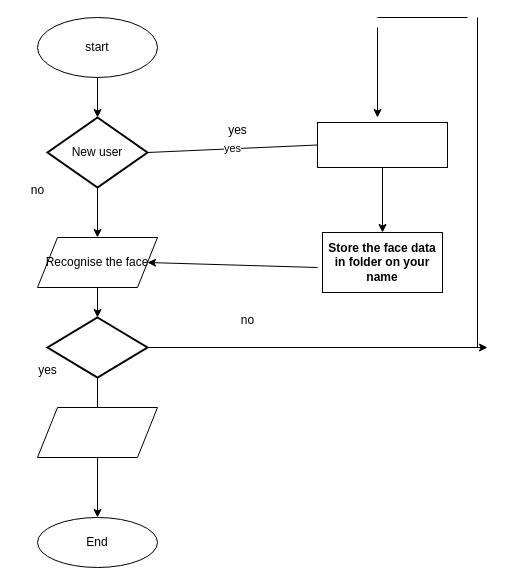
Image size: 513x585. Some labels were removed from this diagram. Here are the shapes that lost their labels. From the top down, the box of each, then its label:
(316, 122, 448, 168): Give your photograph
(46, 316, 148, 378): Face recognised
(36, 406, 158, 458): Stored in csv file with registration Number and date time of entry
